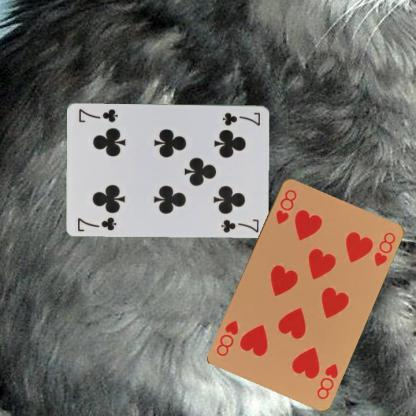7c: (75, 214, 119, 233), (220, 109, 261, 127)
8h: (314, 360, 339, 401), (273, 187, 298, 225)
